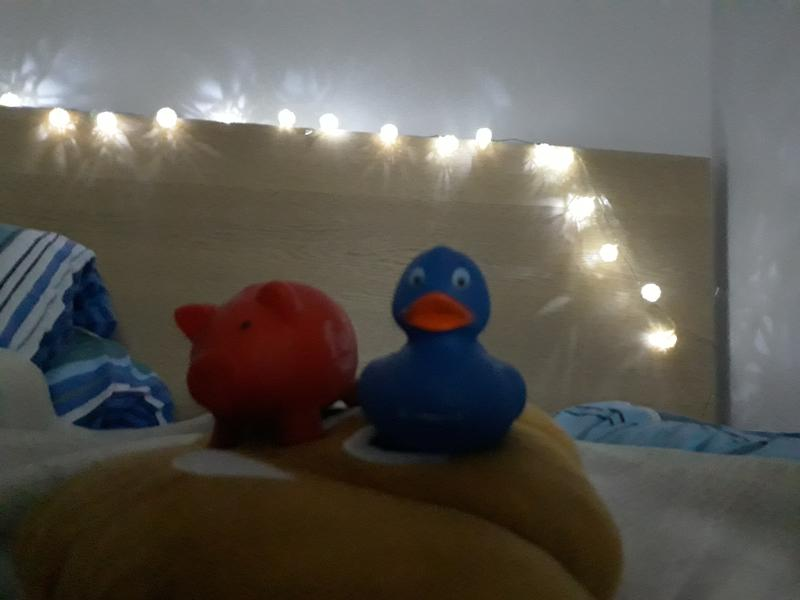foi_gujdica: (165, 277, 361, 439)
plava_patkica: (355, 231, 535, 456)
